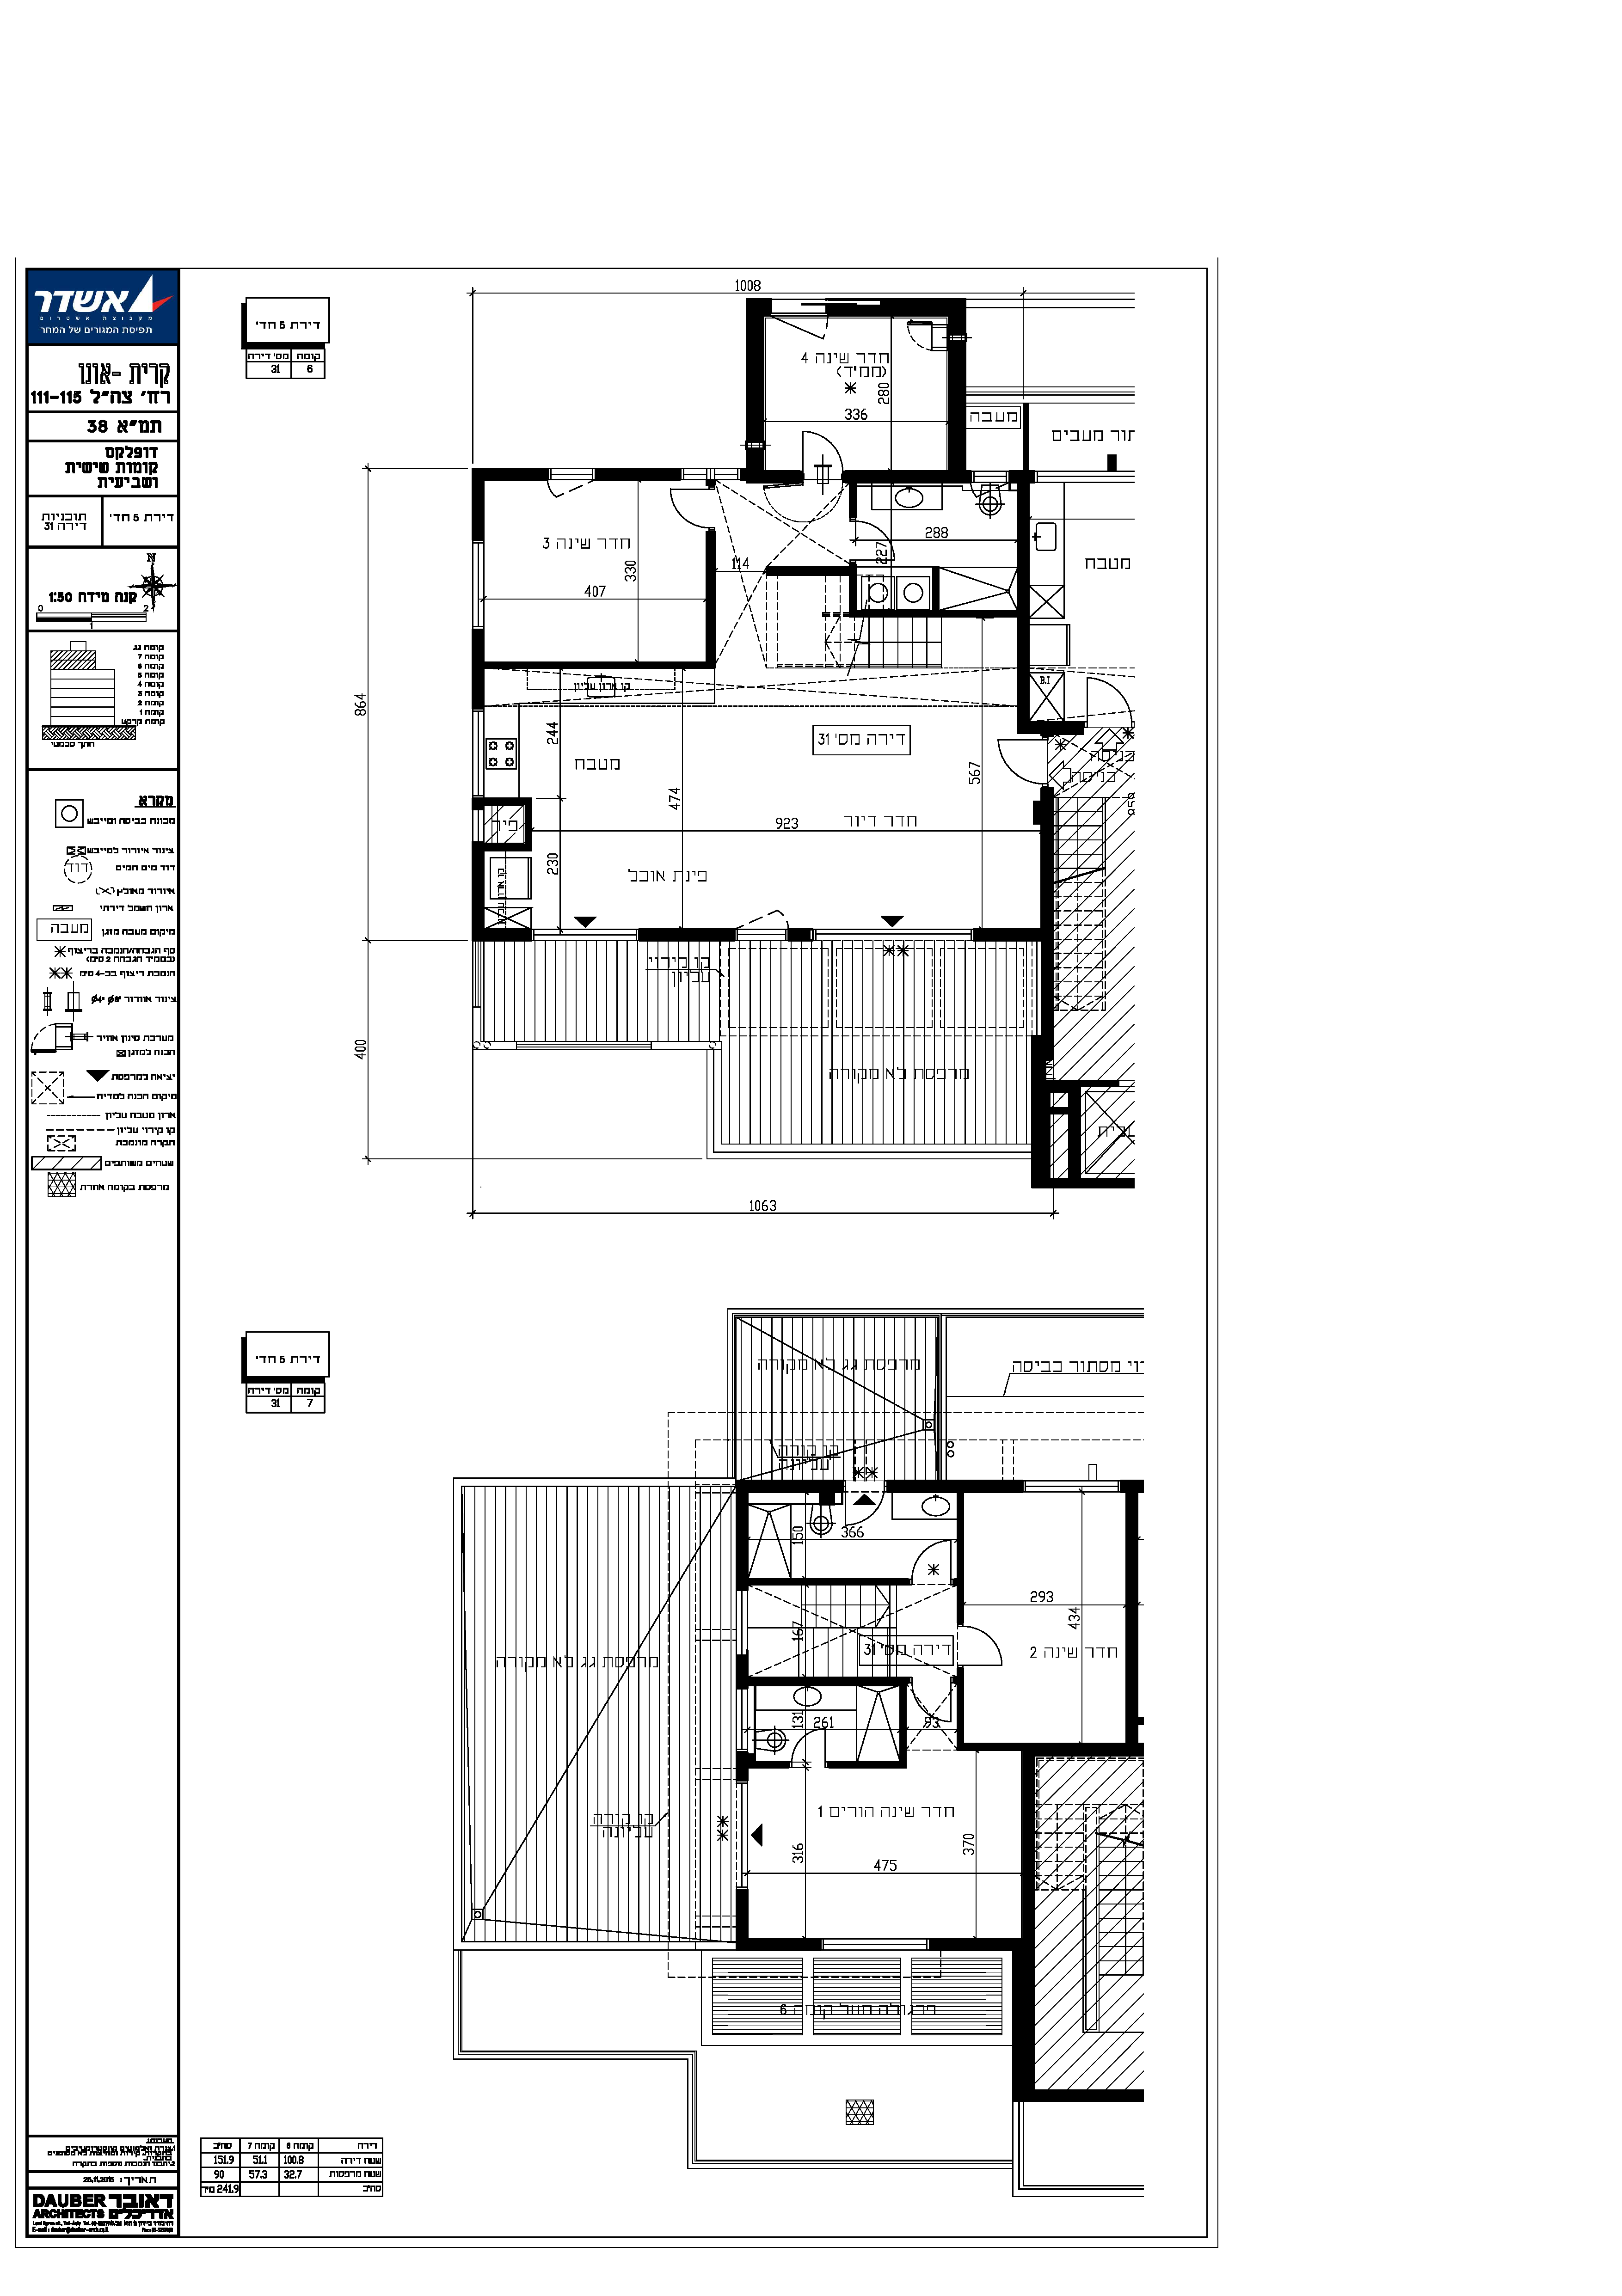door: (793, 424, 851, 463), (995, 737, 1037, 786), (665, 486, 702, 537)
wall: (1043, 793, 1051, 1044), (748, 300, 764, 431), (1020, 475, 1029, 710), (1034, 1044, 1043, 1187), (951, 347, 962, 463), (885, 300, 964, 314), (1071, 1084, 1081, 1187), (853, 474, 969, 482), (707, 540, 714, 660), (646, 930, 725, 940), (606, 470, 679, 481), (472, 849, 481, 935), (867, 610, 1006, 616), (490, 663, 697, 667), (1036, 1180, 1134, 1187), (476, 468, 542, 477), (771, 567, 853, 574), (474, 470, 483, 535), (1022, 724, 1081, 733), (750, 472, 799, 482), (983, 931, 1039, 940), (474, 633, 481, 702), (476, 931, 528, 940), (525, 798, 532, 847), (476, 844, 525, 849)
window: (815, 923, 974, 942), (467, 540, 490, 628), (467, 709, 486, 798), (532, 926, 639, 942), (516, 1040, 653, 1052), (736, 926, 788, 944), (548, 467, 595, 482), (971, 467, 1009, 484), (711, 463, 741, 482), (679, 465, 711, 481)
